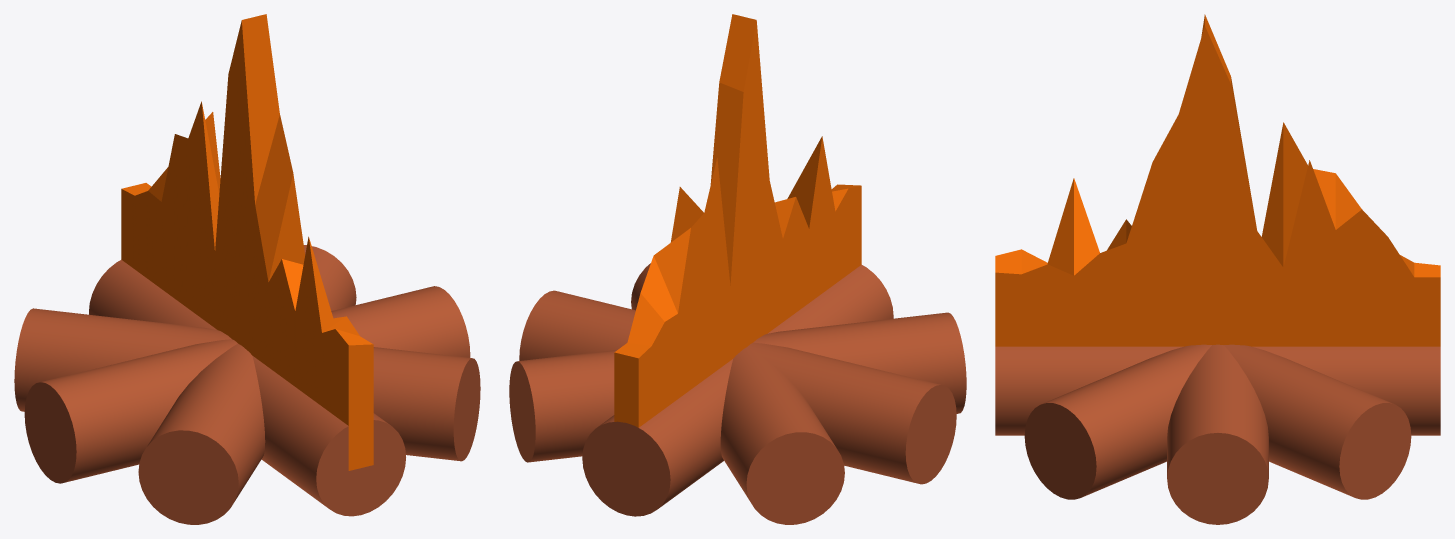
The model's file is campfire.fbx.
The picture shows the model from 3 angles, left to right: view 1: azimuth 30°, elevation 25°; view 2: azimuth 150°, elevation 25°; view 3: azimuth 270°, elevation 25°; orthographic projection. The views are drawn at different scales.
Visible parts, largest first — view 1: Fire, Cylinder.001, Cylinder.003, Cylinder.002, Cylinder; view 2: Fire, Cylinder.001, Cylinder.002, Cylinder, Cylinder.003; view 3: Fire, Cylinder.002, Cylinder.003, Cylinder, Cylinder.001.
Boxes of the visible parts, x1,y1,x2,y2 form: Fire: (121, 14, 373, 470); Cylinder.001: (24, 286, 470, 483); Cylinder.003: (14, 308, 480, 461); Cylinder.002: (138, 245, 356, 524); Cylinder: (89, 259, 405, 516); Fire: (614, 14, 861, 427); Cylinder.001: (519, 290, 956, 484); Cylinder.002: (509, 312, 966, 462); Cylinder: (582, 264, 893, 516); Cylinder.003: (631, 263, 844, 524); Fire: (995, 14, 1440, 346); Cylinder.002: (1224, 344, 1411, 499); Cylinder.003: (1024, 344, 1211, 499); Cylinder: (995, 346, 1440, 435); Cylinder.001: (1167, 344, 1268, 524).
Bounding box in the file's own units: 200 × 204 × 200.
